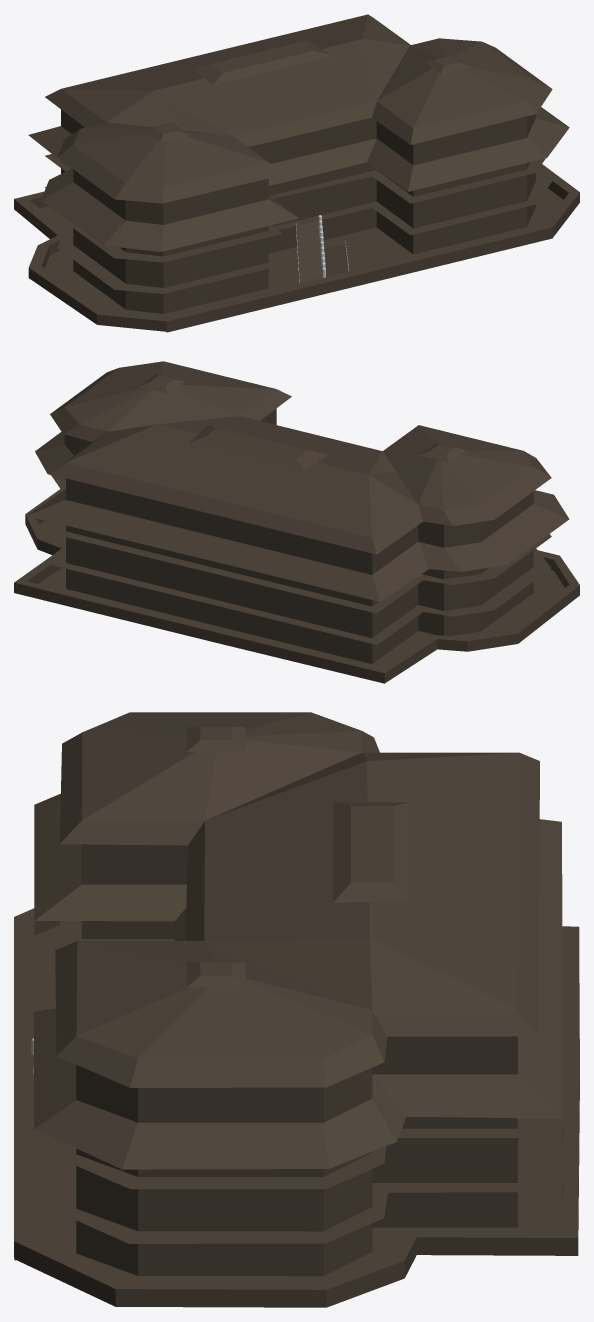
Rendered from ELHC_base_no_texture1.obj.
3 views of the same model, one above another, from view 1: azimuth 30°, elevation 25°; view 2: azimuth 150°, elevation 25°; view 3: azimuth 270°, elevation 25° (orthographic). The views are drawn at different scales.
Visible parts, largest first — view 1: main, main.004, main.001, main.003; view 2: main, main.004, main.001, main.003; view 3: main, main.004, main.003, main.001.
Boxes of the visible parts, box(x1,y1,x2,y2) form: main: box(14, 14, 579, 332); main.004: box(192, 40, 332, 84); main.001: box(143, 123, 189, 142); main.003: box(424, 54, 469, 73); main: box(14, 361, 579, 683); main.004: box(189, 425, 327, 470); main.001: box(420, 443, 465, 462); main.003: box(139, 374, 184, 393); main: box(14, 712, 579, 1307); main.004: box(333, 802, 410, 902); main.003: box(187, 962, 245, 987); main.001: box(187, 726, 245, 751).
Bounding box in the file's own units: 60.93 × 18.25 × 35.28.
